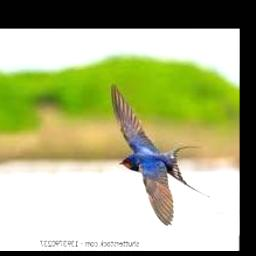Swallow: (111, 82, 212, 226)
